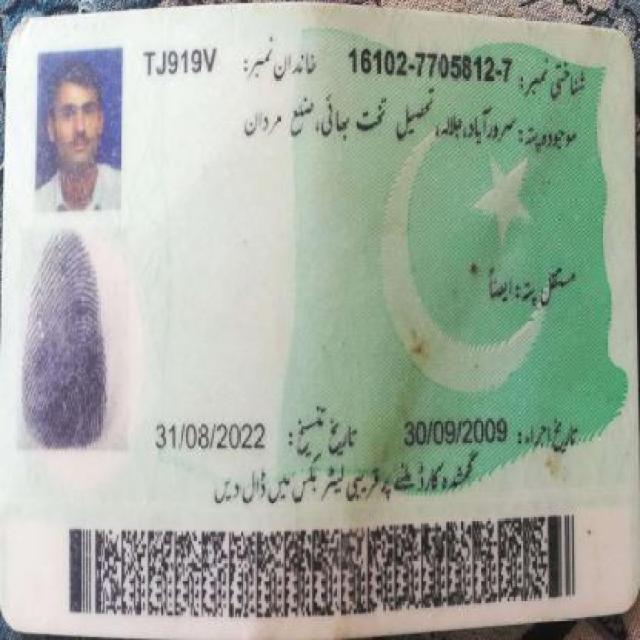Back: (8, 20, 628, 618)
